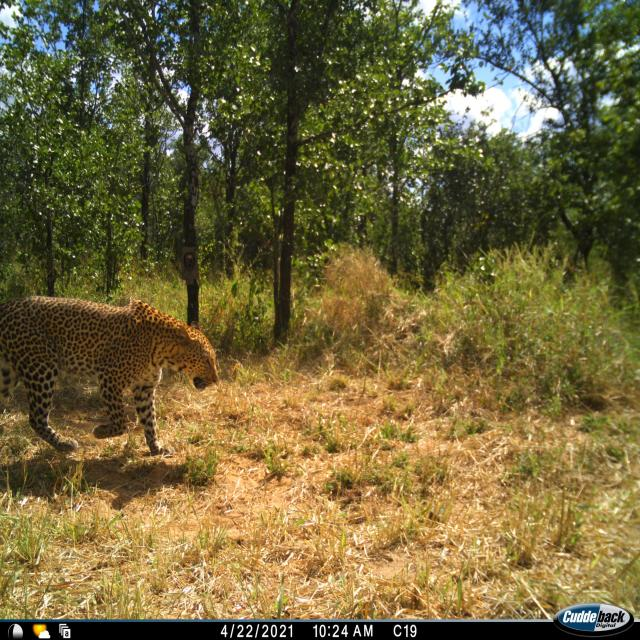Leopard: (0, 296, 220, 480)
